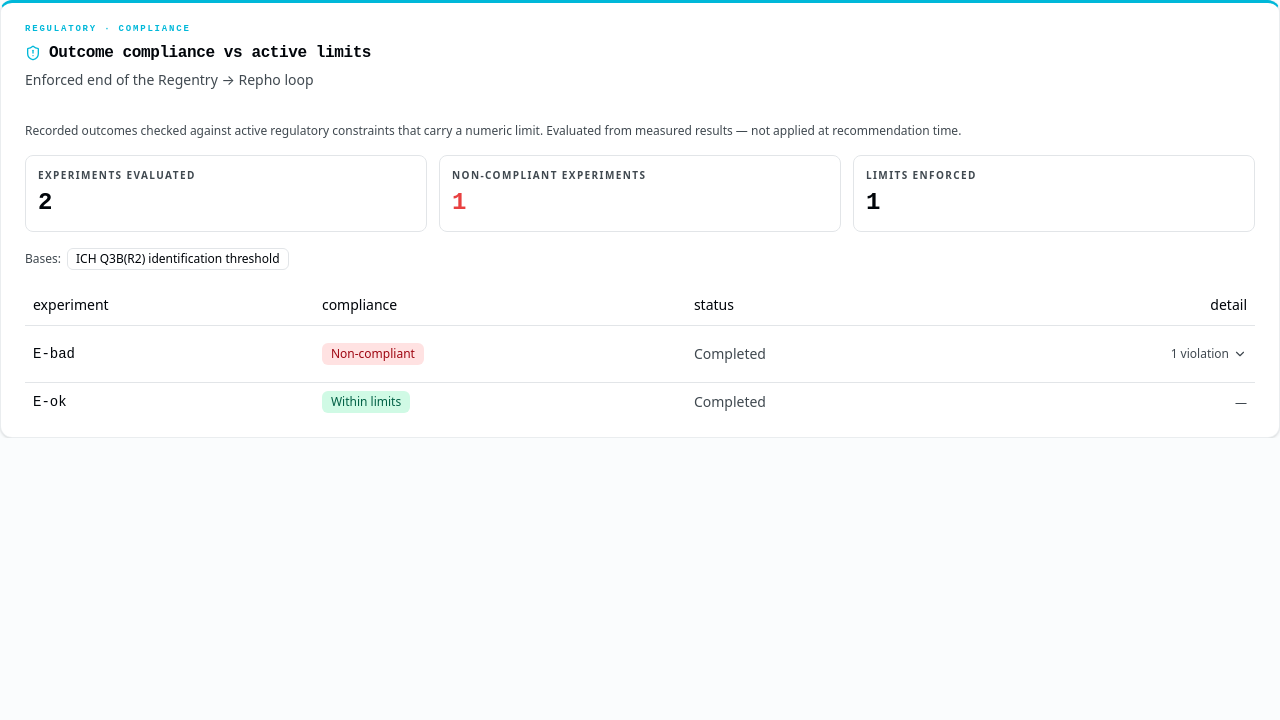
Scenario: ReactionRegulatoryCompliancePanel › renders the summary, a non-compliant row, and expands its violation
Expected: the text "Non-compliant" is shown, x1=322 y1=343 x2=424 y2=365
Expected: the text "ICH Q3B(R2) identification threshold" is shown, x1=67 y1=248 x2=288 y2=270
// Expand the violation detail.
Click the button "1 violation" at (1209, 354), box x1=1171 y1=334 x2=1247 y2=374
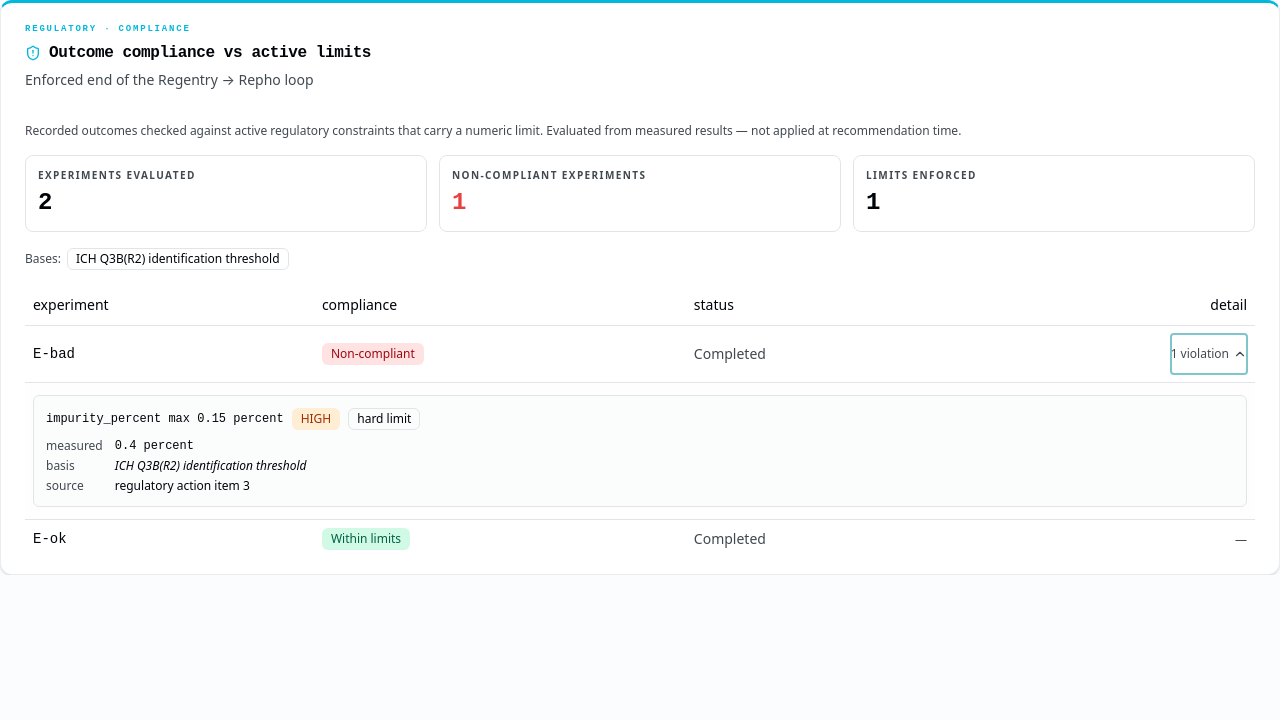
Now the text "impurity_percent max 0.15 percent" is shown, box x1=46 y1=411 x2=284 y2=427
Now the text "regulatory action item 3" is shown, box x1=115 y1=477 x2=250 y2=494
